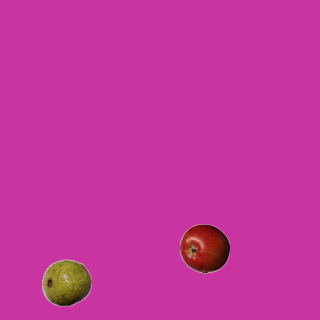Apple Braeburn: (179, 223, 229, 273)
Guava: (41, 257, 91, 307)
